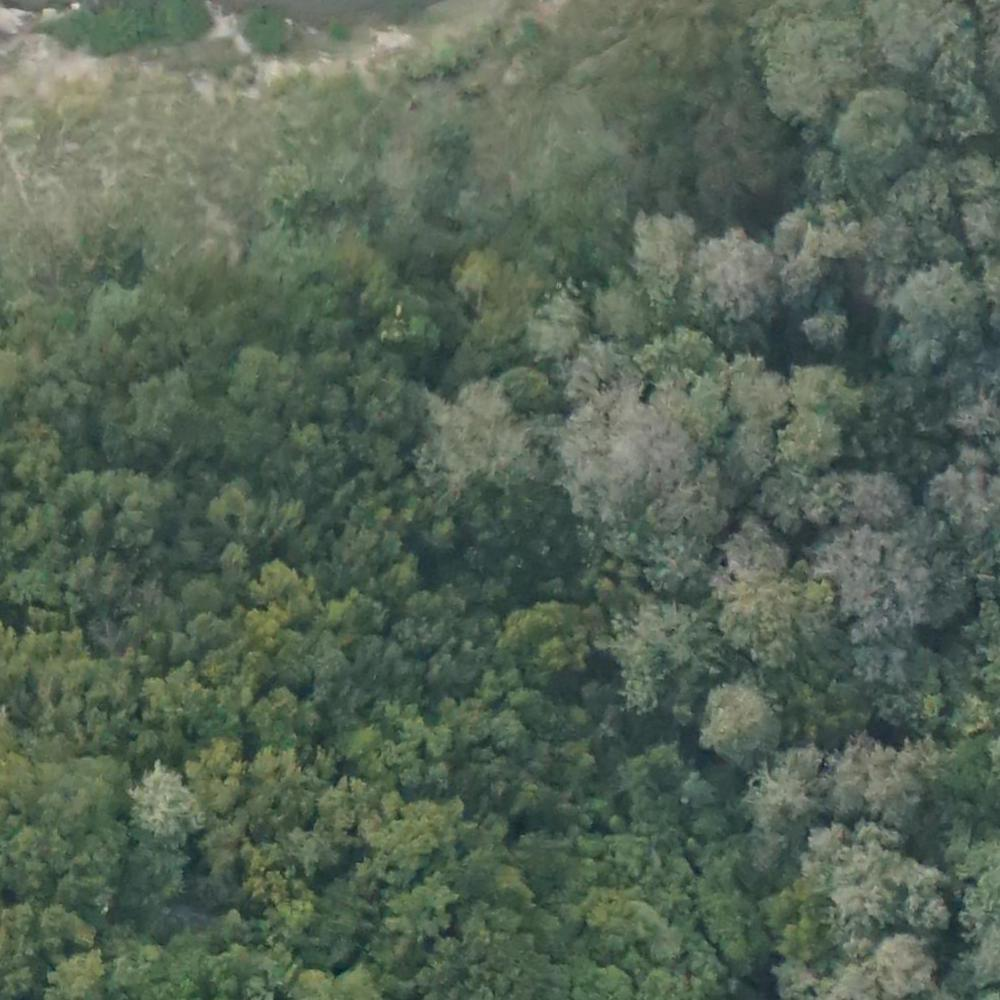tree: (616, 598, 716, 712), (572, 399, 669, 511), (436, 385, 538, 487), (764, 19, 857, 126), (839, 538, 930, 629), (724, 575, 820, 654), (699, 234, 776, 319), (896, 264, 988, 334), (700, 690, 780, 764), (837, 98, 919, 165), (705, 229, 768, 316), (130, 768, 203, 839), (756, 753, 820, 821), (892, 171, 960, 233), (628, 223, 697, 284), (833, 740, 890, 810), (870, 752, 927, 821), (880, 933, 943, 993), (723, 369, 789, 426), (530, 294, 586, 361), (763, 468, 820, 532), (789, 368, 859, 420), (383, 298, 440, 359), (564, 342, 629, 394), (646, 327, 701, 388), (777, 412, 837, 467), (132, 378, 185, 439), (390, 884, 447, 940), (849, 634, 908, 685), (724, 524, 781, 576), (47, 953, 109, 1000), (674, 379, 723, 436), (230, 355, 278, 412), (881, 12, 936, 61), (725, 427, 772, 482), (421, 116, 471, 167), (590, 885, 637, 937), (893, 328, 941, 378), (598, 287, 651, 332), (312, 342, 360, 389), (856, 467, 902, 516), (648, 531, 692, 581), (201, 744, 244, 795), (458, 255, 509, 296), (514, 612, 559, 658), (412, 169, 455, 216), (242, 604, 290, 646), (293, 288, 336, 331), (789, 255, 829, 301), (797, 317, 848, 353), (212, 485, 254, 528), (194, 646, 238, 686), (256, 689, 297, 730), (487, 708, 524, 751), (176, 581, 215, 620), (682, 776, 718, 817), (503, 368, 542, 405), (390, 821, 426, 859), (102, 277, 142, 311), (645, 740, 682, 776), (775, 210, 803, 254), (694, 811, 727, 836), (188, 611, 220, 635)
